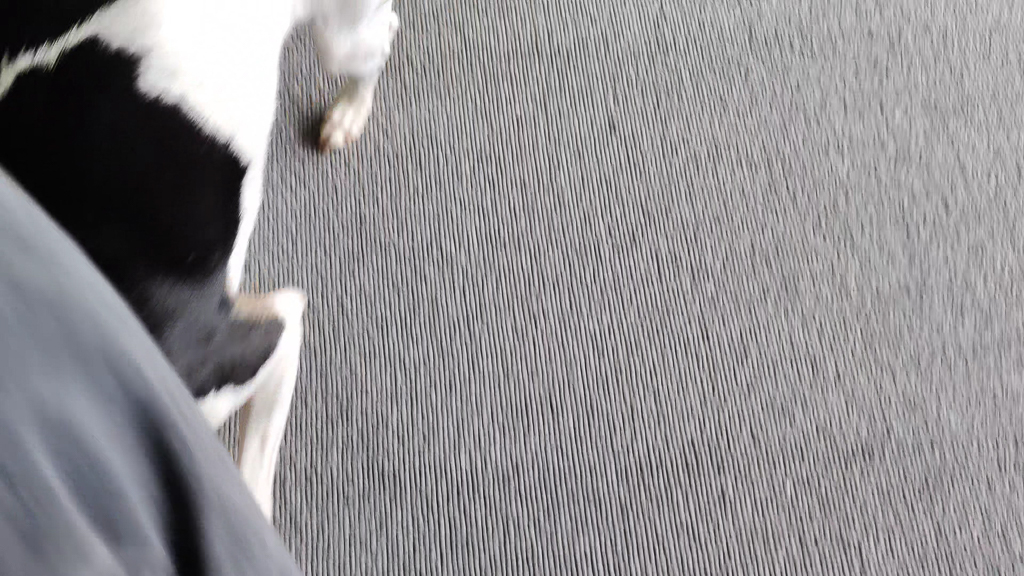Dog: (0, 0, 405, 540)
Humanoid: (0, 156, 313, 576)
